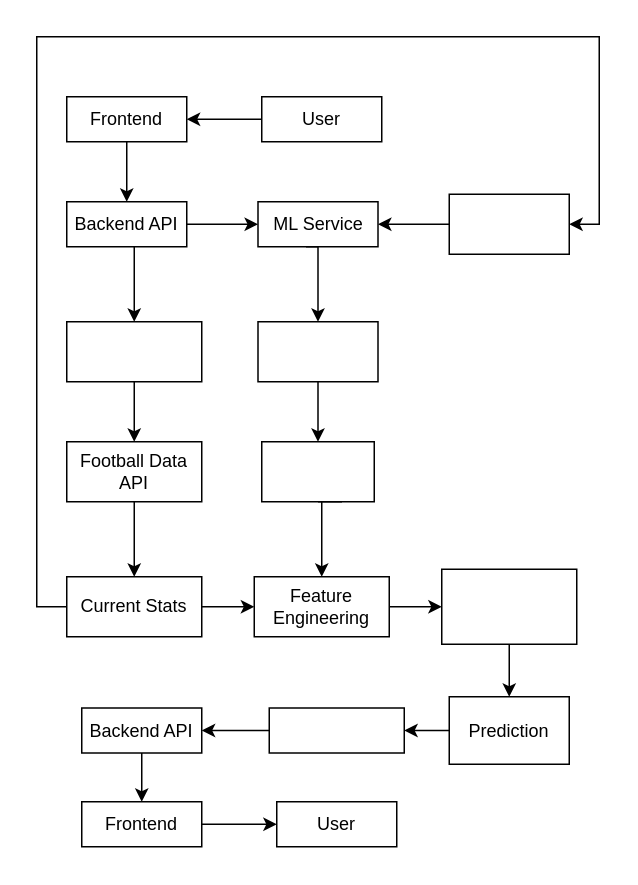
This 638x885 diagram has some shape labels left out. The centre of each missing label's shape, as x and y in pixels:
Combine Data: [508,606]
Fetch Teams: [133,351]
Historical CSV: [317,471]
Load Features: [317,351]
Prediction Result: [336,729]
Trained Models: [508,223]
